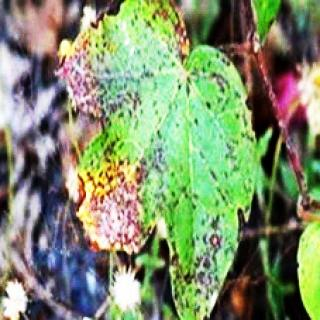leaf spot: (58, 1, 258, 320)
